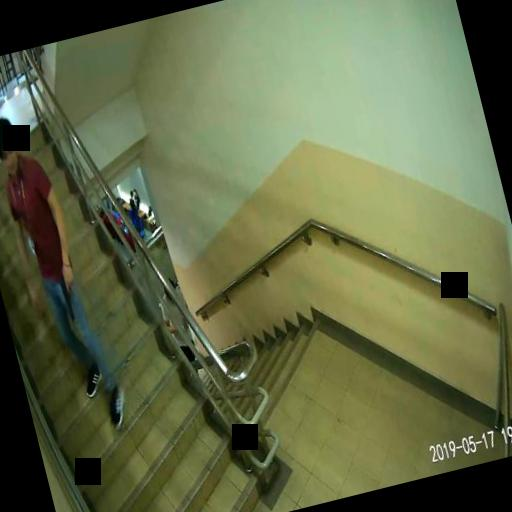Handgun: (55, 266, 82, 320)
